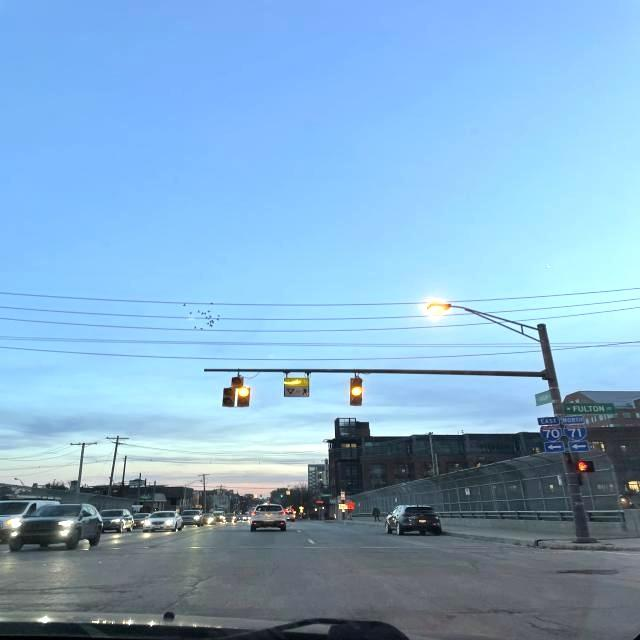Yellow: (350, 375, 366, 407), (236, 386, 252, 408)
